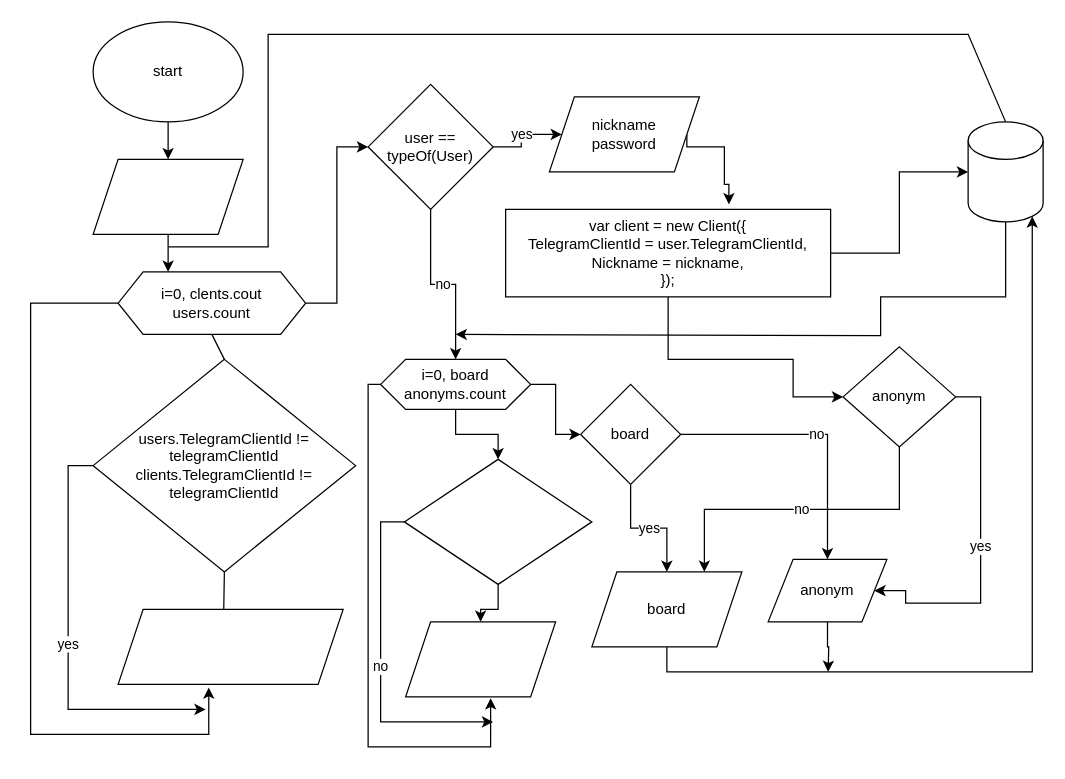
Image size: 1065x779. Some labels were removed from this diagram. Each missing label, with the centre of its shape:
"anonyms. Client != client boards.Client != cliant" goes at (x=497, y=521).
"database" goes at (x=1005, y=171).
"new client new board" goes at (x=480, y=659).
"telegramClientId" goes at (x=167, y=196).
"var user = new user({ TelegramClientId = telegramClientID });" goes at (x=230, y=646).
